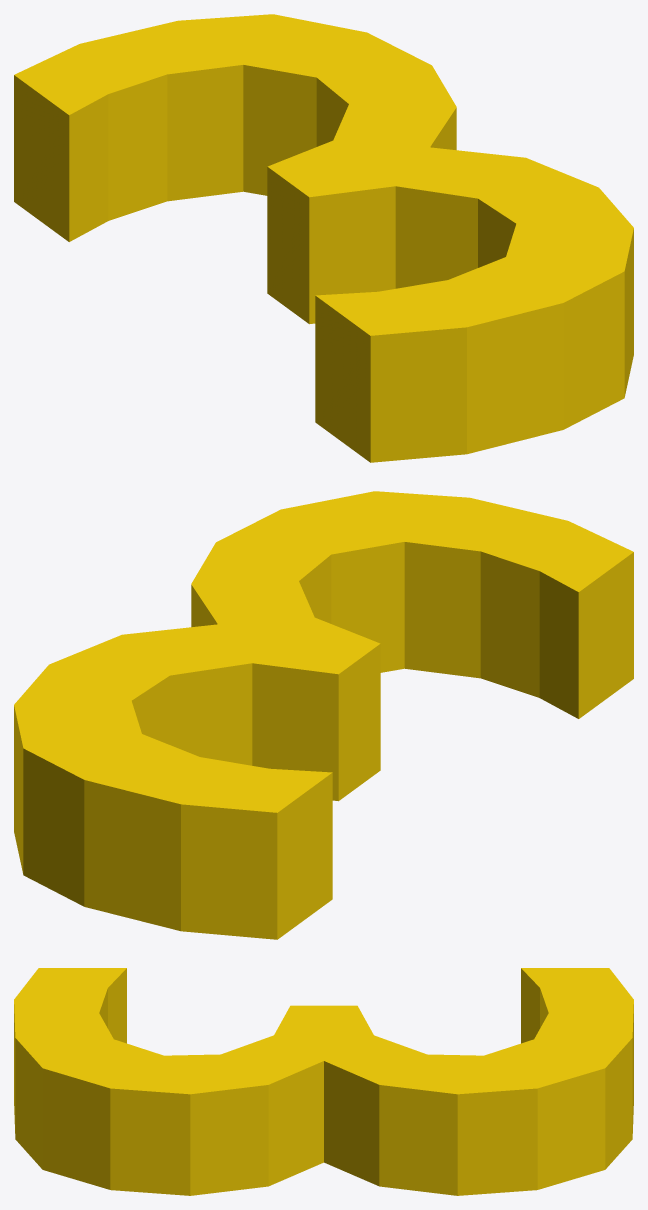
Rendered from three.glb.
3 renders of one model, top to bottom at view 1: azimuth 30°, elevation 25°; view 2: azimuth 150°, elevation 25°; view 3: azimuth 270°, elevation 25°, orthographic. The views are drawn at different scales.
Visible parts, largest first — view 1: Text.003; view 2: Text.003; view 3: Text.003.
Boxes of the visible parts, bbox=[...] form: Text.003: bbox=[14, 14, 633, 462]; Text.003: bbox=[14, 491, 633, 939]; Text.003: bbox=[14, 968, 633, 1195].
Bounding box in the file's own units: 0.2665 × 0.1 × 0.5529.
Materials: 1 (1 with a texture image).
